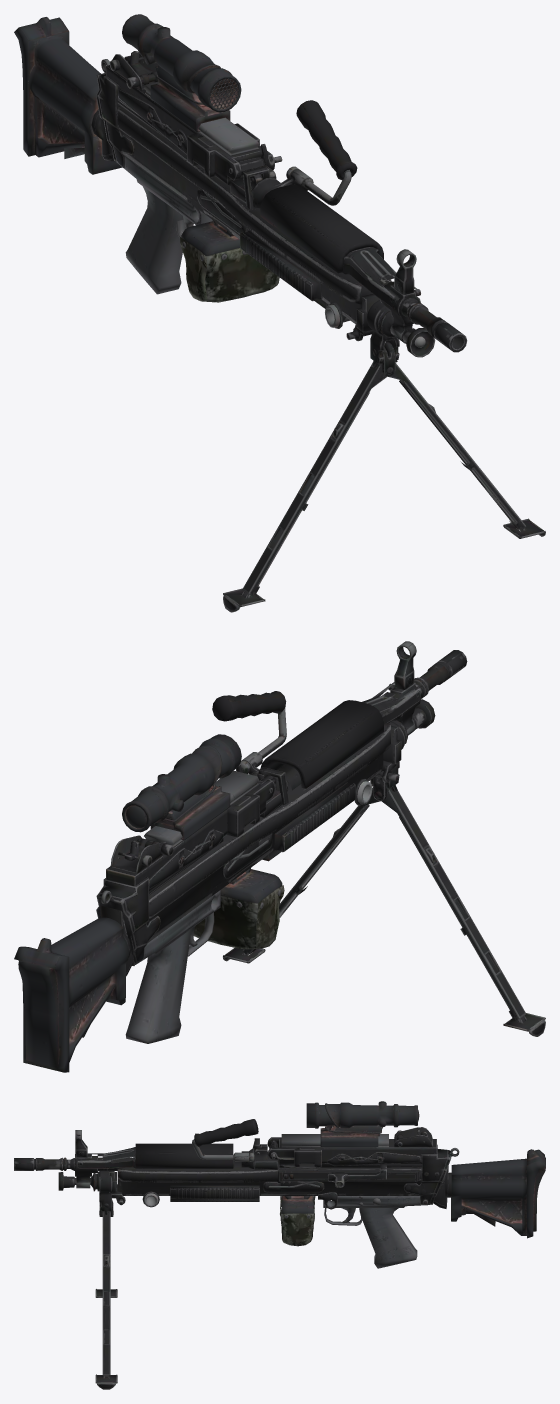
The model's file is gun-m249.glb.
3 views of the same model, one above another, from view 1: azimuth 30°, elevation 25°; view 2: azimuth 150°, elevation 25°; view 3: azimuth 270°, elevation 25° (orthographic). The views are drawn at different scales.
Visible parts, largest first — view 1: M249_Low; view 2: M249_Low; view 3: M249_Low.
Part boxes in pixels (<box>): M249_Low: <box>14,14,545,612</box>; M249_Low: <box>14,641,545,1072</box>; M249_Low: <box>14,1101,545,1389</box>.
Bounding box in the file's own units: 0.5178 × 0.6041 × 1.22.
Materials: 1 (1 with a texture image).
